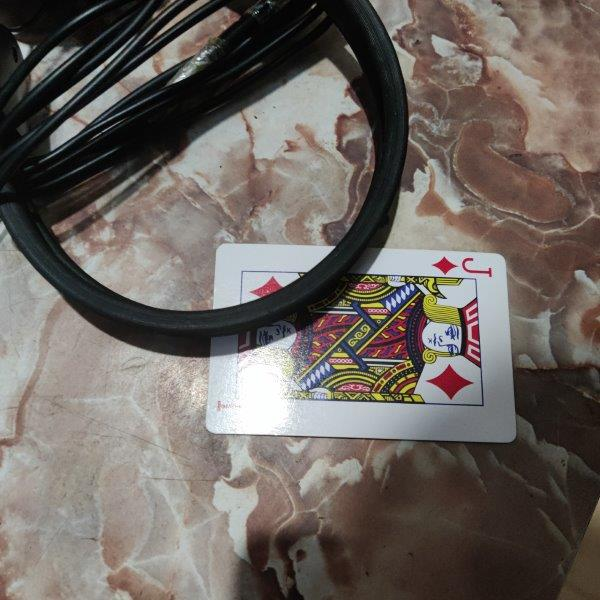Jack of Diamonds: (204, 242, 518, 446)
